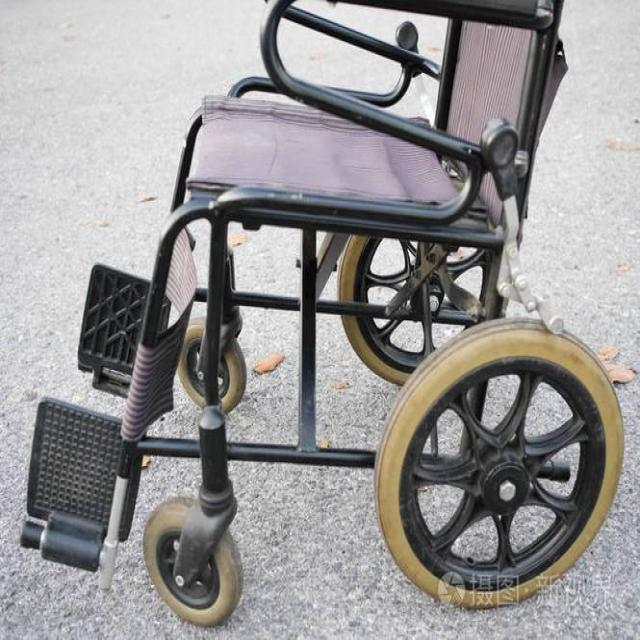wheelchairs: (14, 0, 640, 640)
